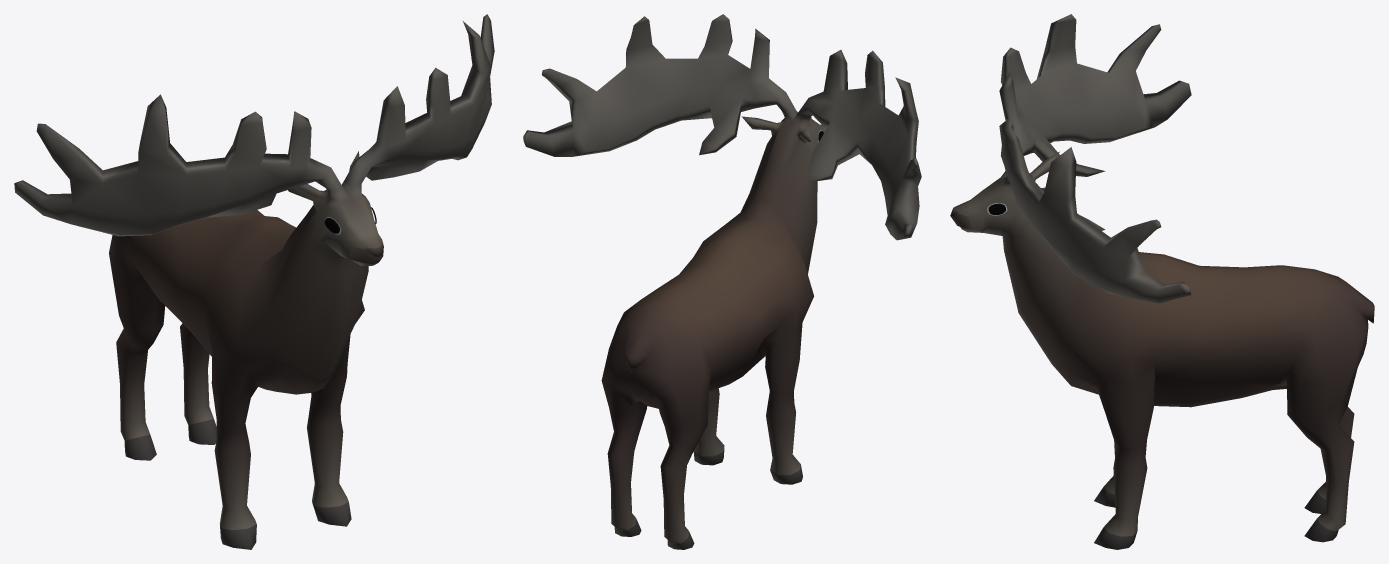
File: kit-megaloceros.glb
3 renders of one model, left to right at view 1: azimuth 30°, elevation 25°; view 2: azimuth 150°, elevation 25°; view 3: azimuth 270°, elevation 25°, orthographic. The views are drawn at different scales.
Visible parts, largest first — view 1: base; view 2: base; view 3: base.
Part boxes in pixels (x1=…): base: x1=14, y1=14, x2=494, y2=549; base: x1=523, y1=14, x2=921, y2=549; base: x1=950, y1=14, x2=1374, y2=549.
Size of the model in its own units: 3.32 by 3.33 by 2.91.
